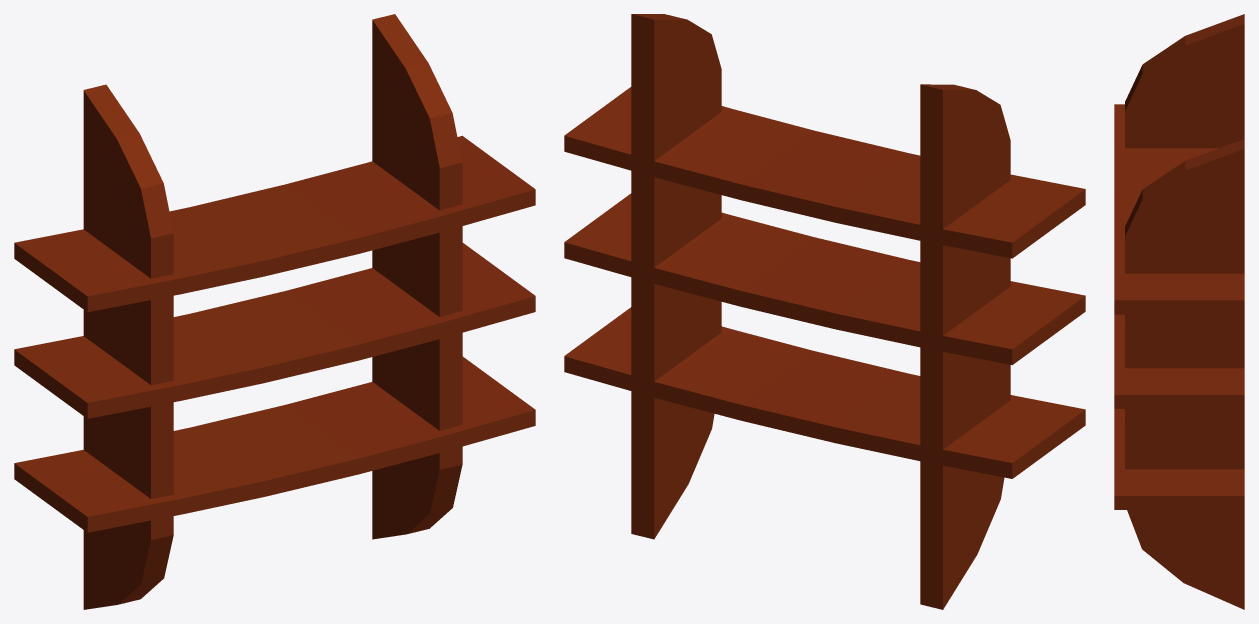
Rendered from Shelw_1.fbx.
The picture shows the model from 3 angles, left to right: view 1: azimuth 30°, elevation 25°; view 2: azimuth 150°, elevation 25°; view 3: azimuth 270°, elevation 25°; orthographic projection. The views are drawn at different scales.
Parts seen in each view (by area): view 1: Wealth_Shelw_1; view 2: Wealth_Shelw_1; view 3: Wealth_Shelw_1.
Boxes of the visible parts, bbox=[...] form: Wealth_Shelw_1: bbox=[14, 14, 535, 609]; Wealth_Shelw_1: bbox=[564, 14, 1085, 609]; Wealth_Shelw_1: bbox=[1114, 14, 1244, 609].
Bounding box in the file's own units: 147 × 163 × 41.8.
